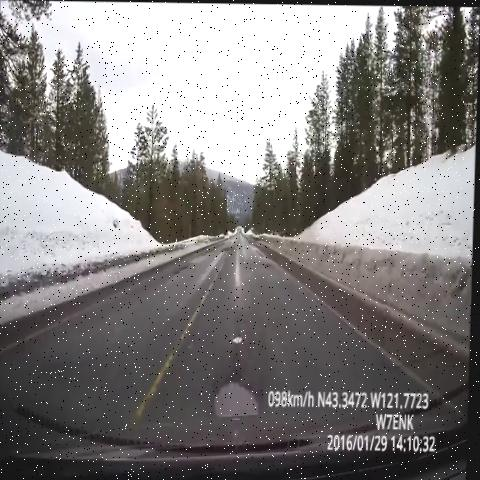pothole: (216, 377, 272, 428), (231, 324, 253, 353)
